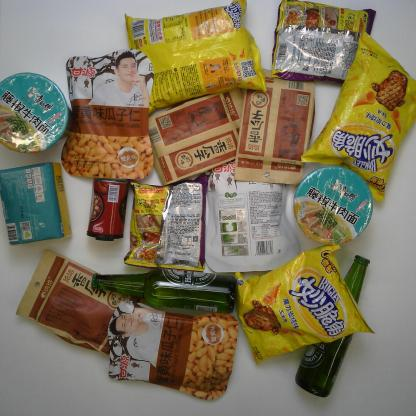Alcohol: (290, 246, 378, 396), (88, 262, 239, 320)
Canned Food: (83, 167, 131, 249)
Dried Food: (16, 234, 132, 362), (140, 86, 256, 190), (233, 55, 317, 189)
Dried Fruit: (102, 288, 244, 404), (54, 39, 164, 180), (202, 147, 306, 276)
Instant Noodles: (272, 0, 383, 89), (289, 157, 381, 254), (131, 170, 211, 274), (0, 62, 81, 160)
Puffed Food: (298, 31, 416, 203), (225, 241, 380, 363), (118, 4, 275, 114)
Tissue: (2, 162, 75, 254)
